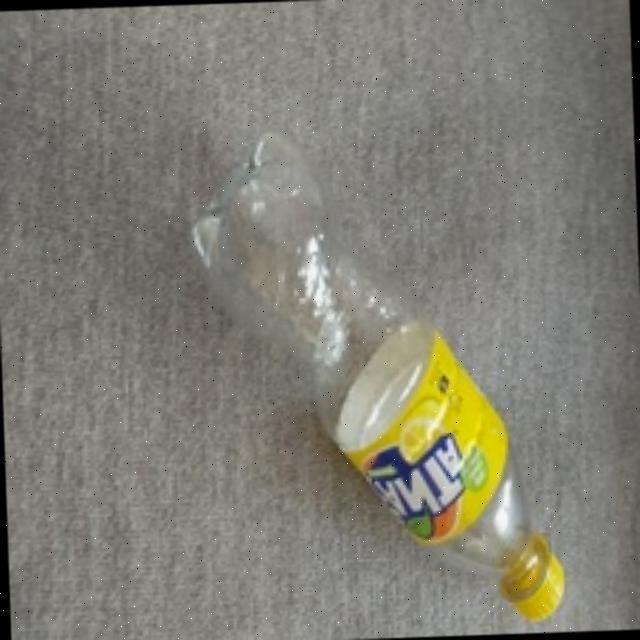bottle: (167, 113, 608, 640)
cap: (496, 537, 567, 624)
label: (314, 321, 554, 554)
